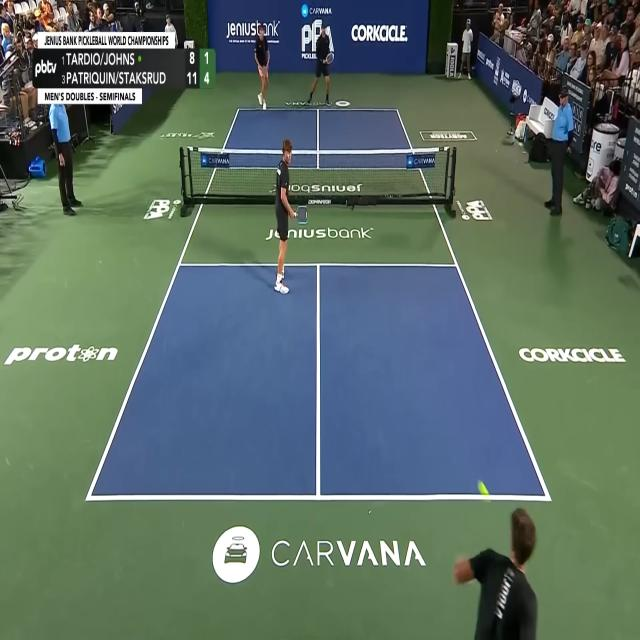ball: (477, 480, 489, 496)
